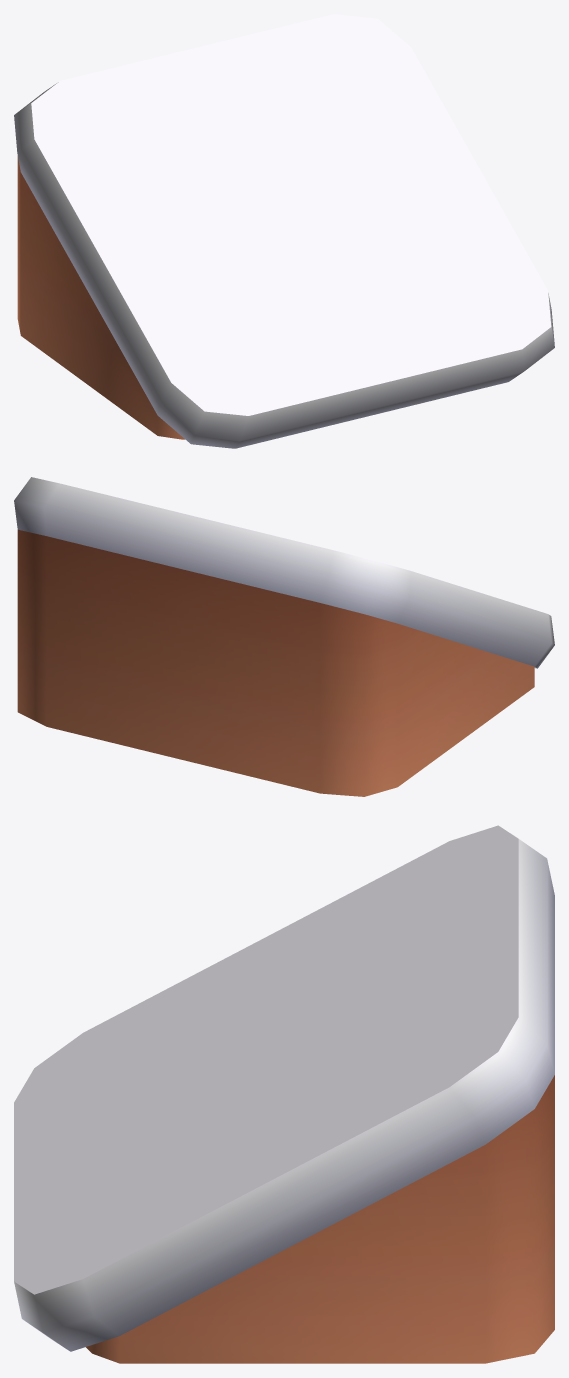
File: kenney-platformer-block-snow-large-slope-steep.glb
The picture shows the model from 3 angles, top to bottom: view 1: azimuth 30°, elevation 25°; view 2: azimuth 150°, elevation 25°; view 3: azimuth 270°, elevation 25°; orthographic projection. The views are drawn at different scales.
Visible parts, largest first — view 1: block-snow-large-slope-steep; view 2: block-snow-large-slope-steep; view 3: block-snow-large-slope-steep.
Boxes of the visible parts, x1,y1,x2,y2 form: block-snow-large-slope-steep: [14, 14, 554, 448]; block-snow-large-slope-steep: [14, 477, 554, 796]; block-snow-large-slope-steep: [14, 825, 554, 1363].
Bounding box in the file's own units: 2.08 × 1.22 × 1.86.
Materials: 1 (1 with a texture image).
